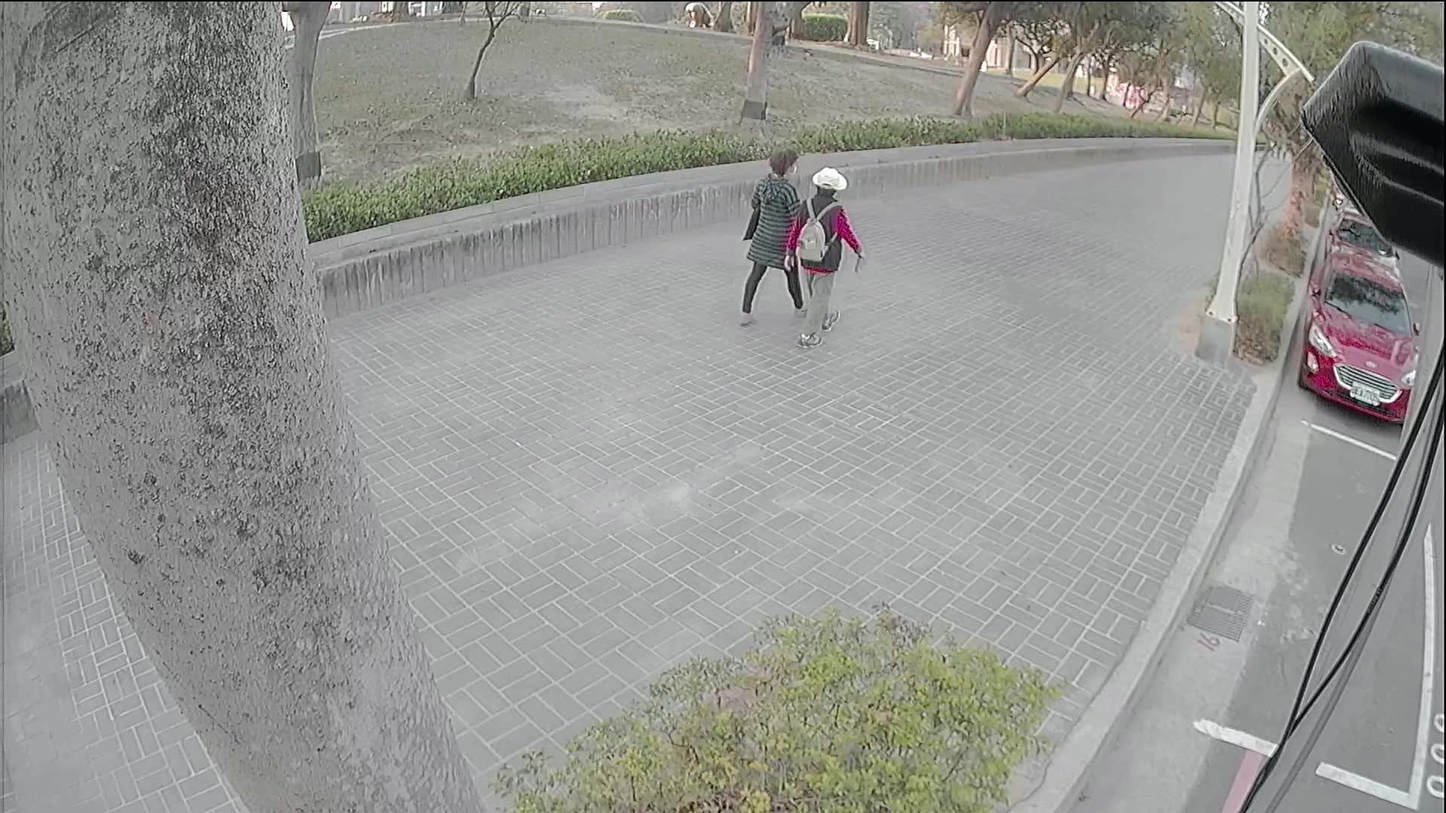person: (787, 166, 861, 342), (741, 143, 796, 320)
